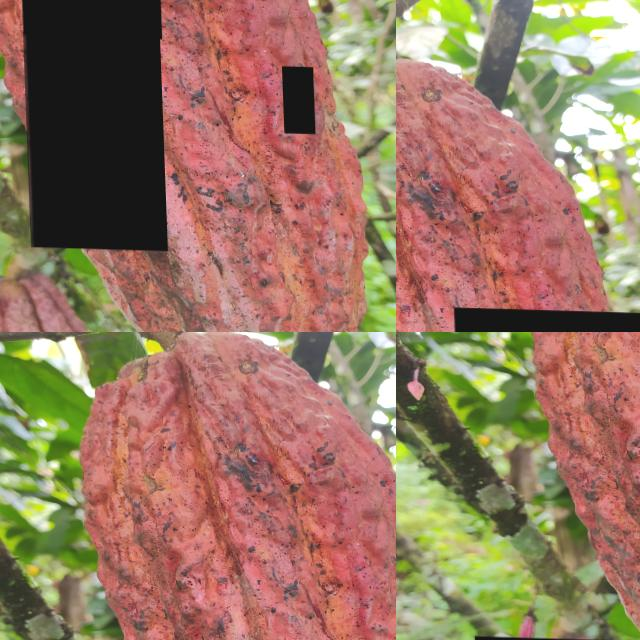Fitoftora: (19, 0, 163, 248)
Monilia: (327, 446, 396, 640), (280, 64, 313, 131), (137, 0, 159, 36)
Sana: (151, 0, 354, 332), (521, 332, 640, 640), (396, 160, 505, 332)
